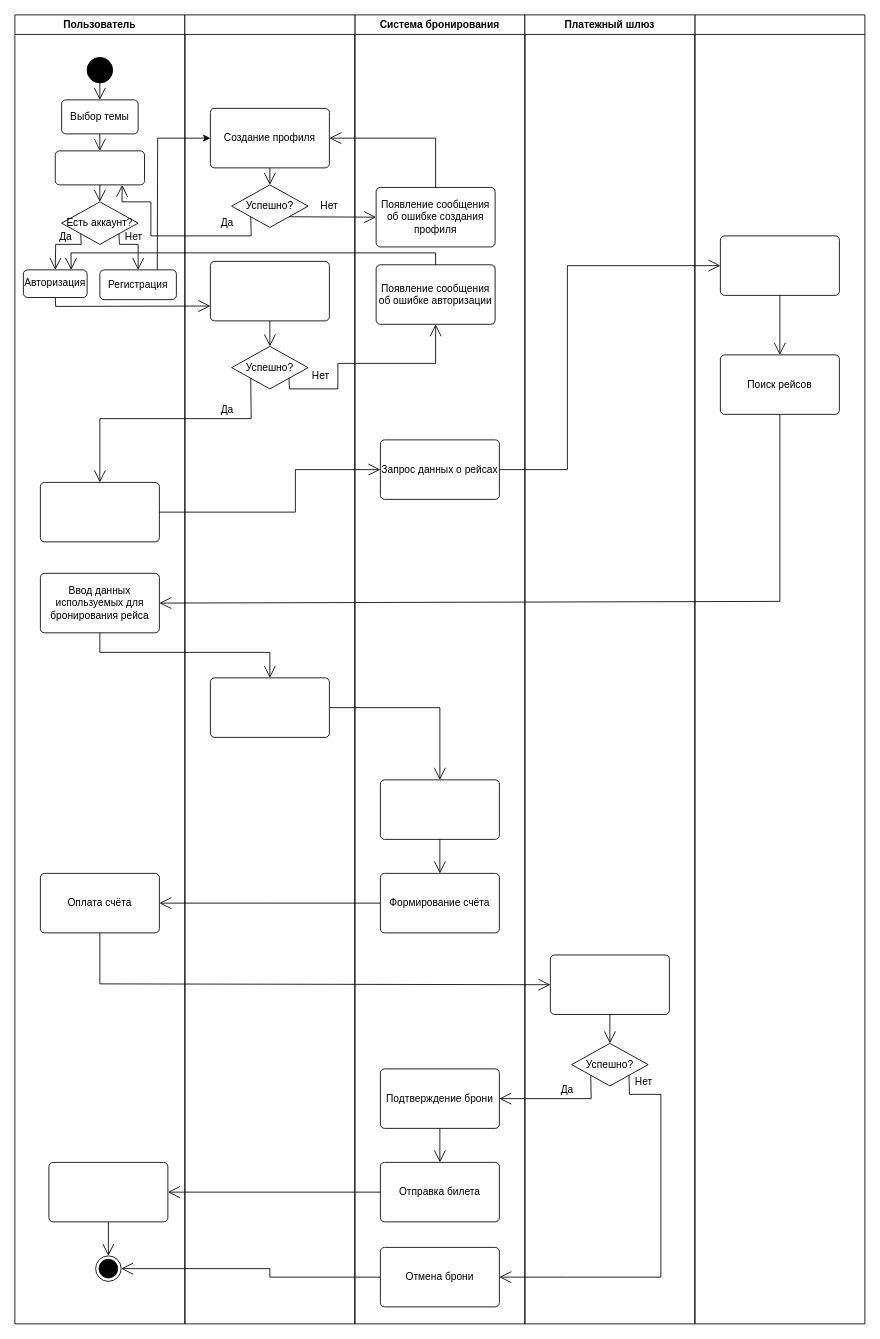
This 880x1339 diagram has some shape labels left out. Here are the shapes that lost their labels. From the top down, the box of each, then its label:
(54, 150, 144, 185): Проверка наличия аккаунта
(720, 235, 839, 295): Обновление данных рейсов
(210, 261, 329, 321): Проверка данных
(40, 482, 159, 542): Выбор рейса
(184, 14, 355, 1324): Личный кабинет
(694, 14, 865, 1324): API авиакомпаний
(210, 677, 329, 737): Сохранение данных
(380, 779, 499, 839): Резервирование места
(550, 954, 669, 1014): Проверка оплаты
(48, 1162, 168, 1222): Получение билета
